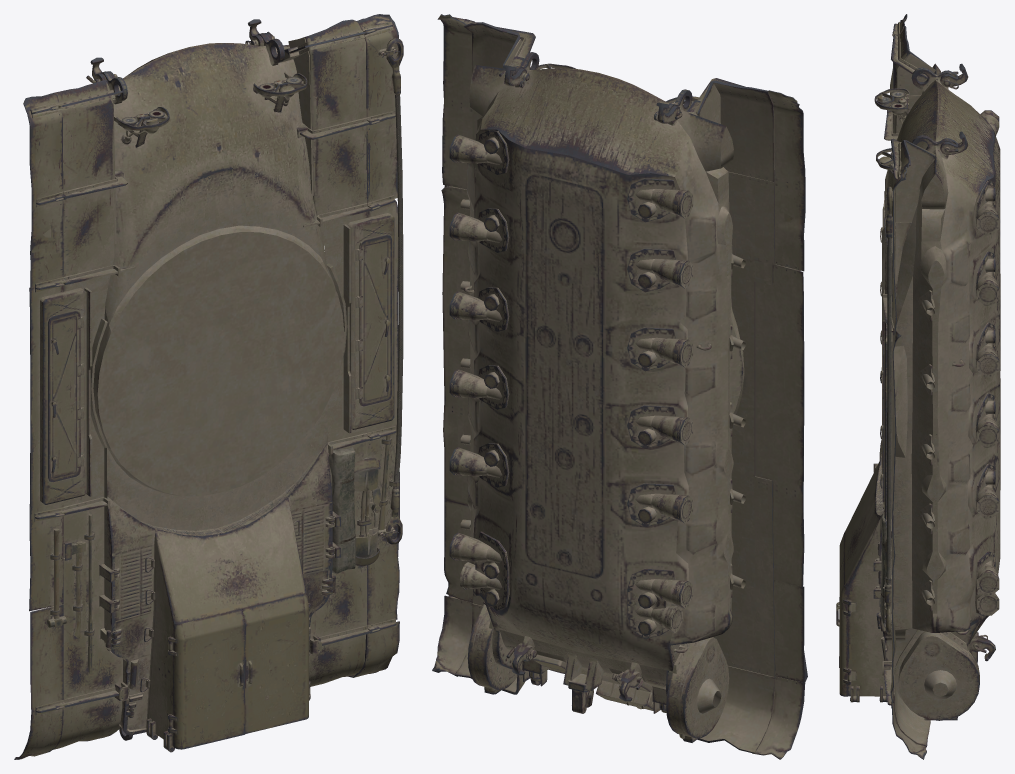
The model's file is Hull.glb.
3 renders of one model, left to right at view 1: azimuth 30°, elevation 25°; view 2: azimuth 150°, elevation 25°; view 3: azimuth 270°, elevation 25°, orthographic. The views are drawn at different scales.
Parts seen in each view (by area): view 1: set_0_group_0; view 2: set_0_group_0; view 3: set_0_group_0.
Part boxes in pixels (bbox=[...]): set_0_group_0: bbox=[14, 14, 403, 759]; set_0_group_0: bbox=[432, 14, 807, 759]; set_0_group_0: bbox=[836, 14, 1000, 759].
Bounding box in the file's own units: 3.76 × 6.46 × 1.62.
1 material, 1 textured.
